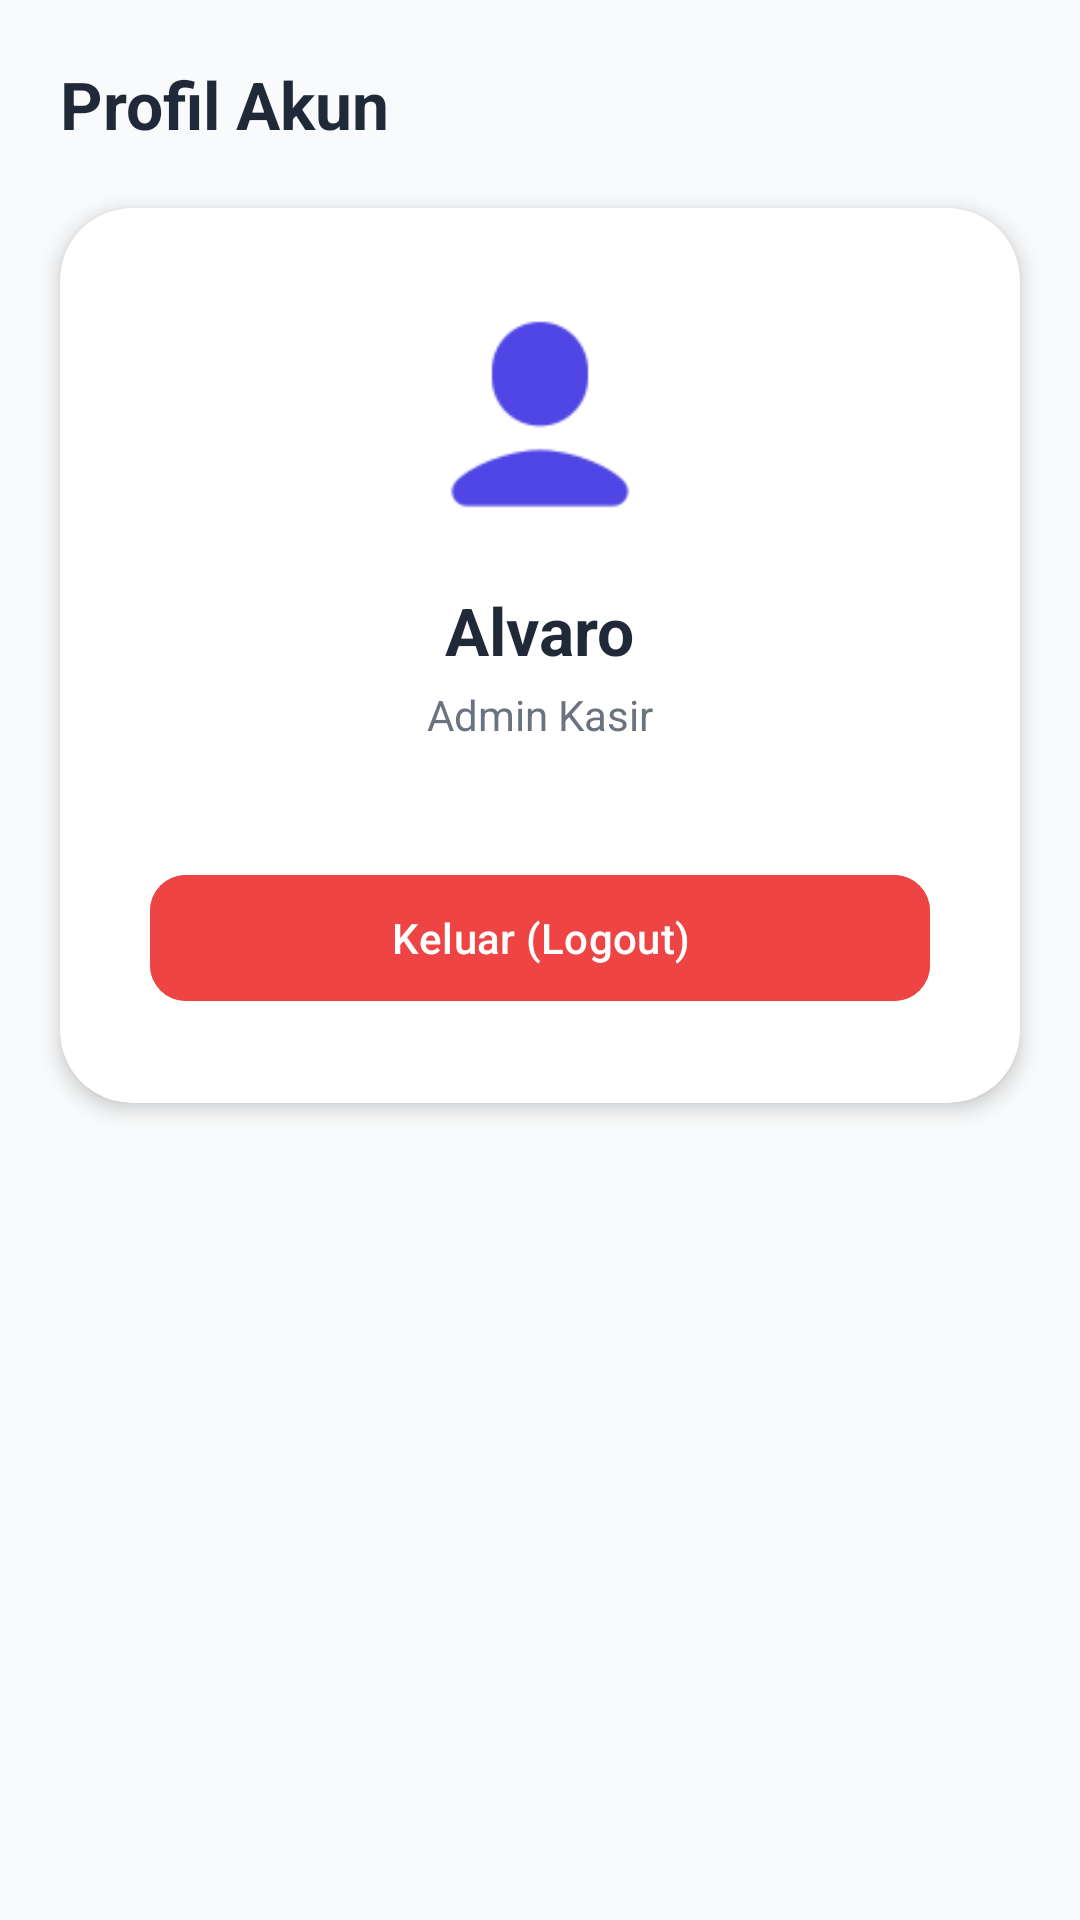

Where icons sit on this 1080x1920 app screen, as [x1,y1,x2,y2]:
profile: [451,321,629,508]
